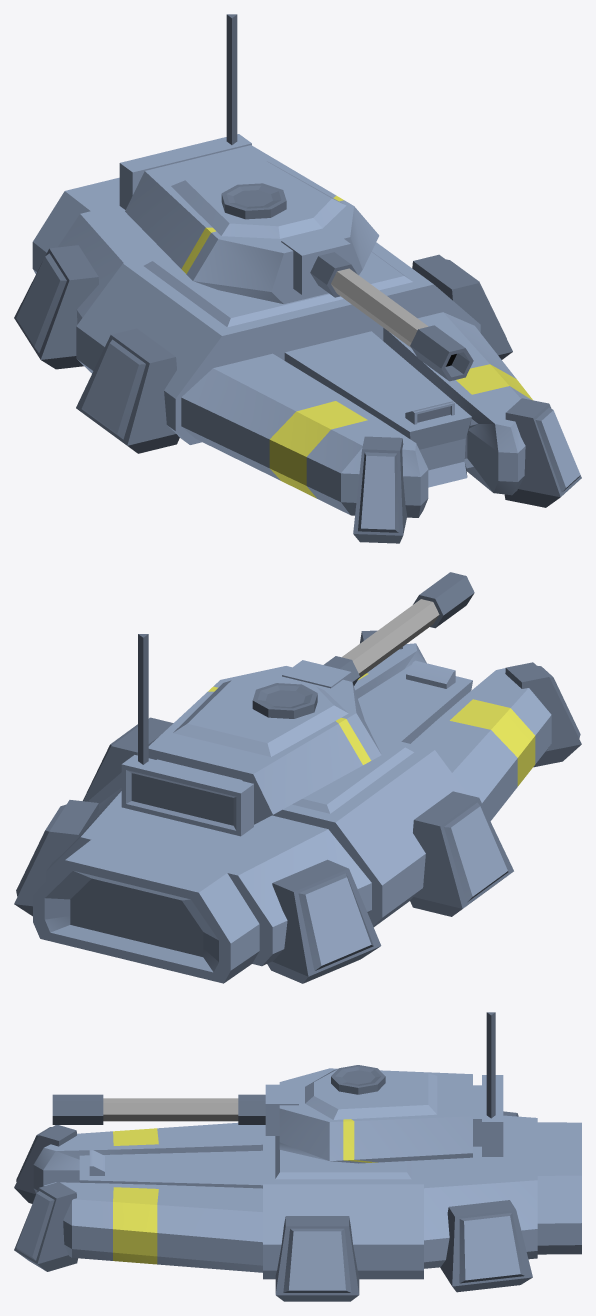
Rendered from ice_tankEnemy_01.fbx.
The picture shows the model from 3 angles, top to bottom: view 1: azimuth 30°, elevation 25°; view 2: azimuth 150°, elevation 25°; view 3: azimuth 270°, elevation 25°; orthographic projection. The views are drawn at different scales.
Visible parts, largest first — view 1: body, turret, jet04, jet06, jet01, barrel01, jet02, jet03, barrel02, greeble01, antenna; view 2: body, turret, jet06, jet04, barrel01, jet05, jet02, greeble01, jet03, barrel02, antenna, greeble03; view 3: body, turret, jet05, jet03, barrel01, jet01, barrel02, jet02, greeble01, antenna, greeble03.
Part boxes in pixels (x1,y1,x2,y2): body: (32,177,532,517); turret: (119,134,379,303); jet04: (76,328,179,453); jet06: (14,245,98,369); jet01: (504,398,581,507); barrel01: (331,268,473,381); jet02: (353,436,407,543); jet03: (412,254,512,359); barrel02: (281,229,357,297); greeble01: (221,183,286,219); antenna: (226,14,237,144); body: (33,643,551,983); turret: (121,666,381,836); jet06: (267,859,381,983); jet04: (410,791,513,916); barrel01: (342,572,474,678); jet05: (14,800,99,916); jet02: (505,662,581,767); greeble01: (252,683,317,718); jet03: (83,717,173,801); barrel02: (282,656,359,688); antenna: (138,634,148,764); greeble03: (406,660,455,688); body: (33,1115,581,1279); turret: (279,1068,503,1163); jet05: (440,1200,532,1292); jet03: (275,1216,359,1301); barrel01: (52,1094,238,1124); jet01: (14,1182,77,1271); barrel02: (238,1084,298,1135); jet02: (14,1125,76,1203); greeble01: (331,1065,385,1094); antenna: (486,1012,495,1118); greeble03: (89,1150,104,1175).
Bounding box in the file's own units: 3.6 × 2.57 × 5.6.
